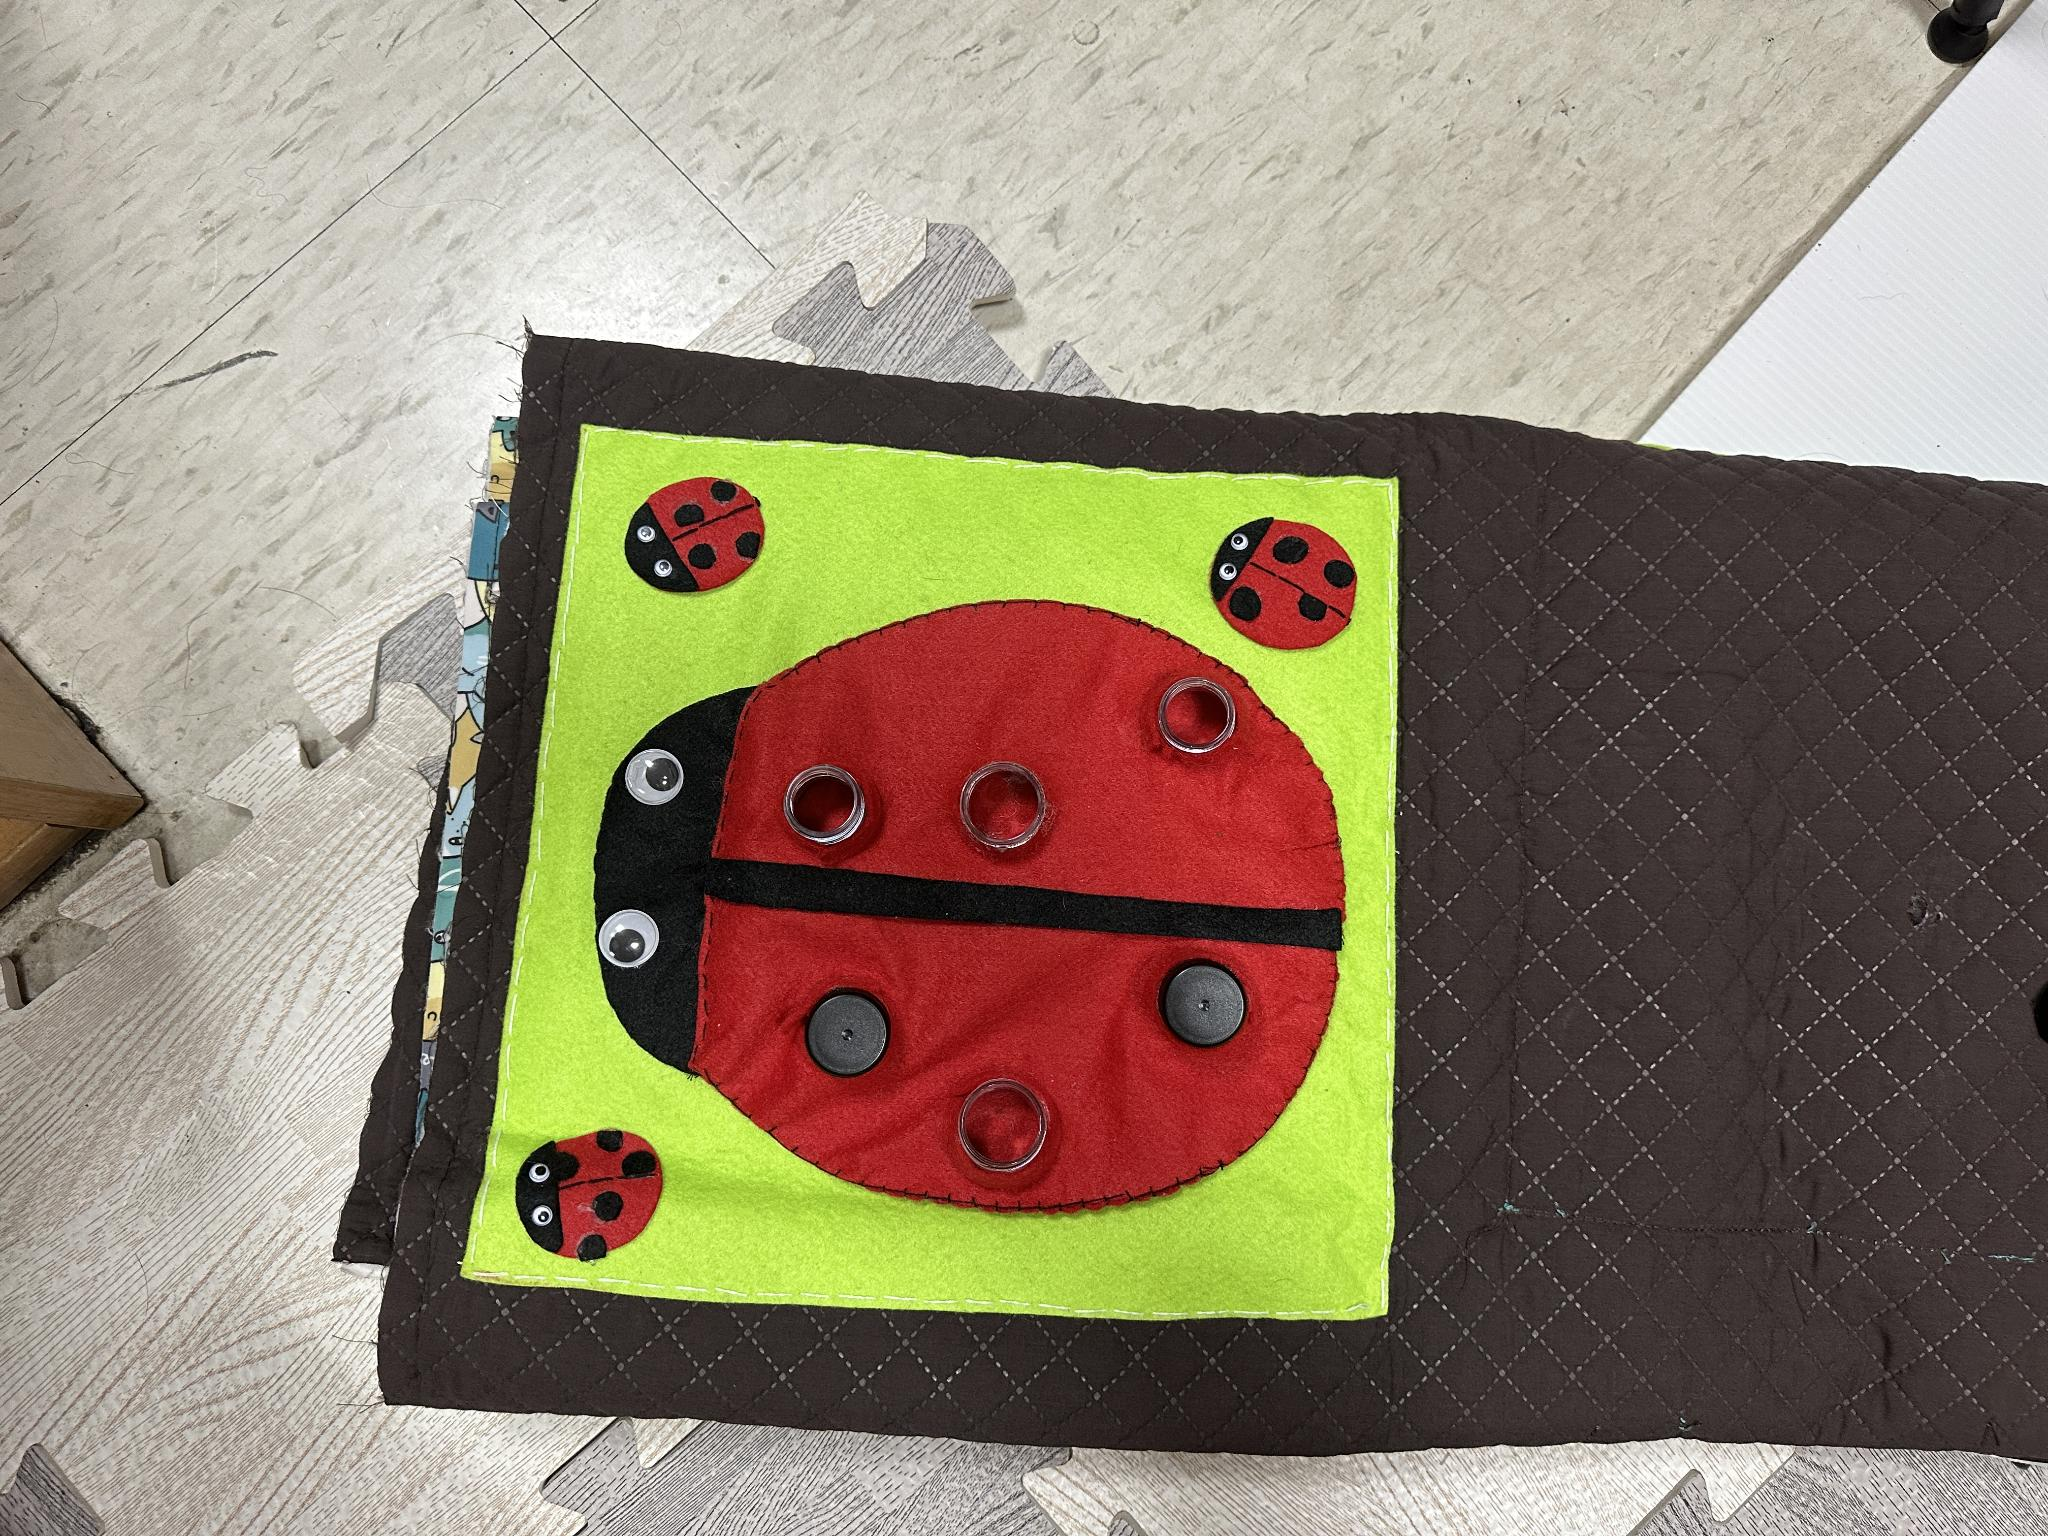cap_ok: (785, 966, 911, 1089), (1153, 945, 1261, 1058)
